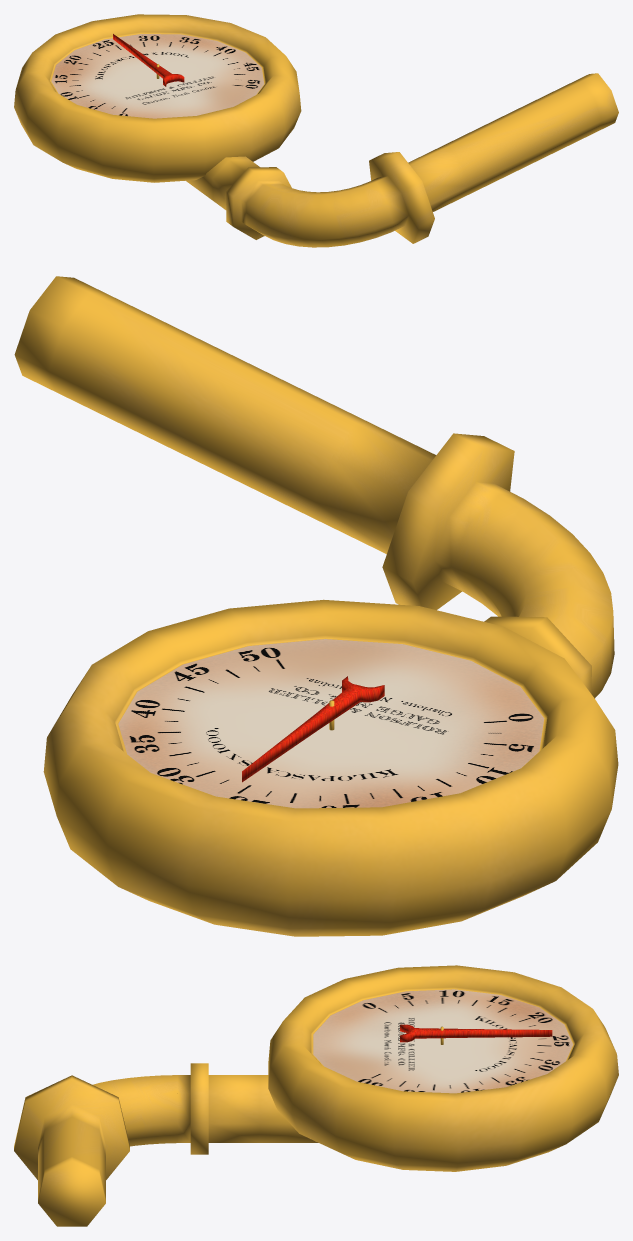
The model's file is pressure-gauge.glb.
3 views of the same model, one above another, from view 1: azimuth 30°, elevation 25°; view 2: azimuth 150°, elevation 25°; view 3: azimuth 270°, elevation 25° (orthographic). The views are drawn at different scales.
Parts seen in each view (by area): view 1: GAUGE_body, GAUGE_needle; view 2: GAUGE_body, GAUGE_needle; view 3: GAUGE_body, GAUGE_needle.
Boxes of the visible parts, x1=… form: GAUGE_body: x1=14, y1=14, x2=618, y2=247; GAUGE_needle: x1=113, y1=34, x2=184, y2=86; GAUGE_body: x1=14, y1=276, x2=618, y2=936; GAUGE_needle: x1=242, y1=676, x2=384, y2=782; GAUGE_body: x1=14, y1=965, x2=618, y2=1226; GAUGE_needle: x1=400, y1=1024, x2=552, y2=1044.
Bounding box in the file's own units: 5.31 × 1.56 × 5.35.
1 material, 1 textured.
